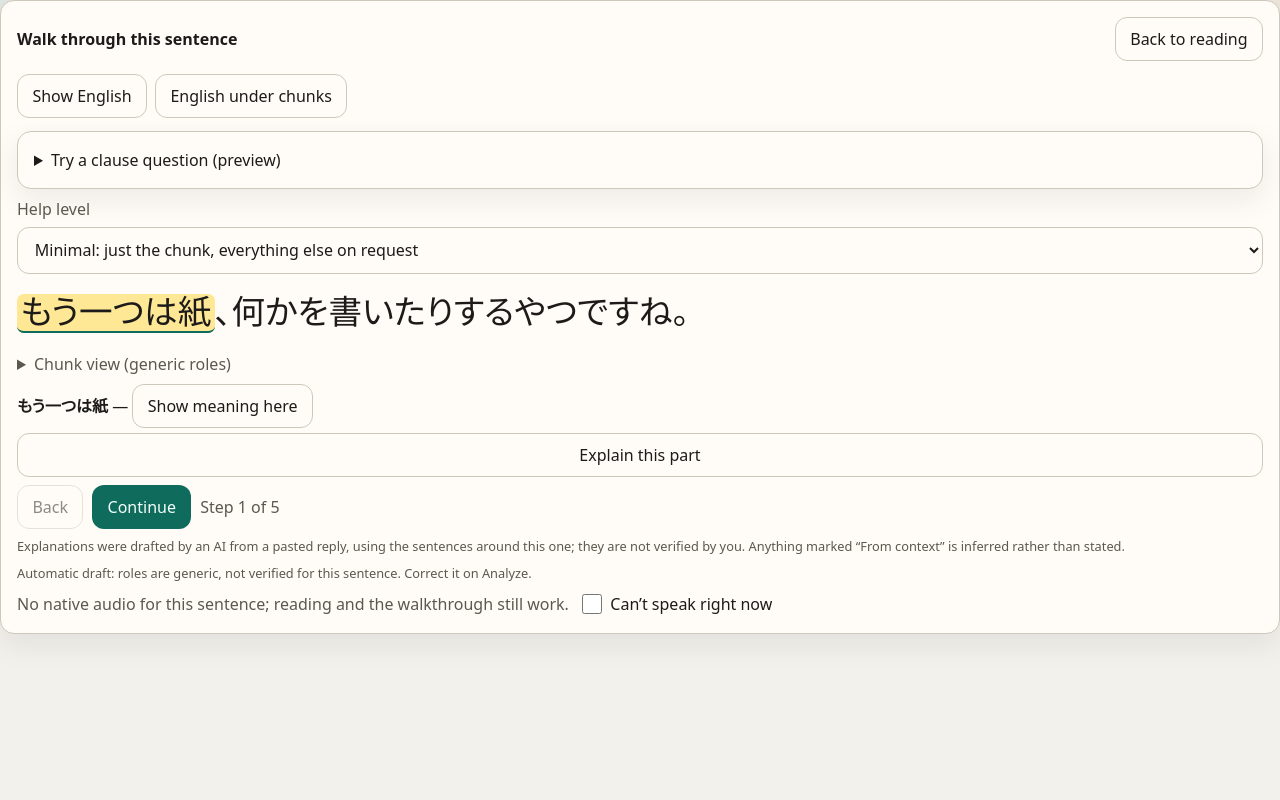
Test case: SentenceWalkthrough › hides the explanation until asked at minimal help
Step 1. Click the button "Explain this part" → [640, 455], box top-left (17, 433), bottom-right (1263, 477)
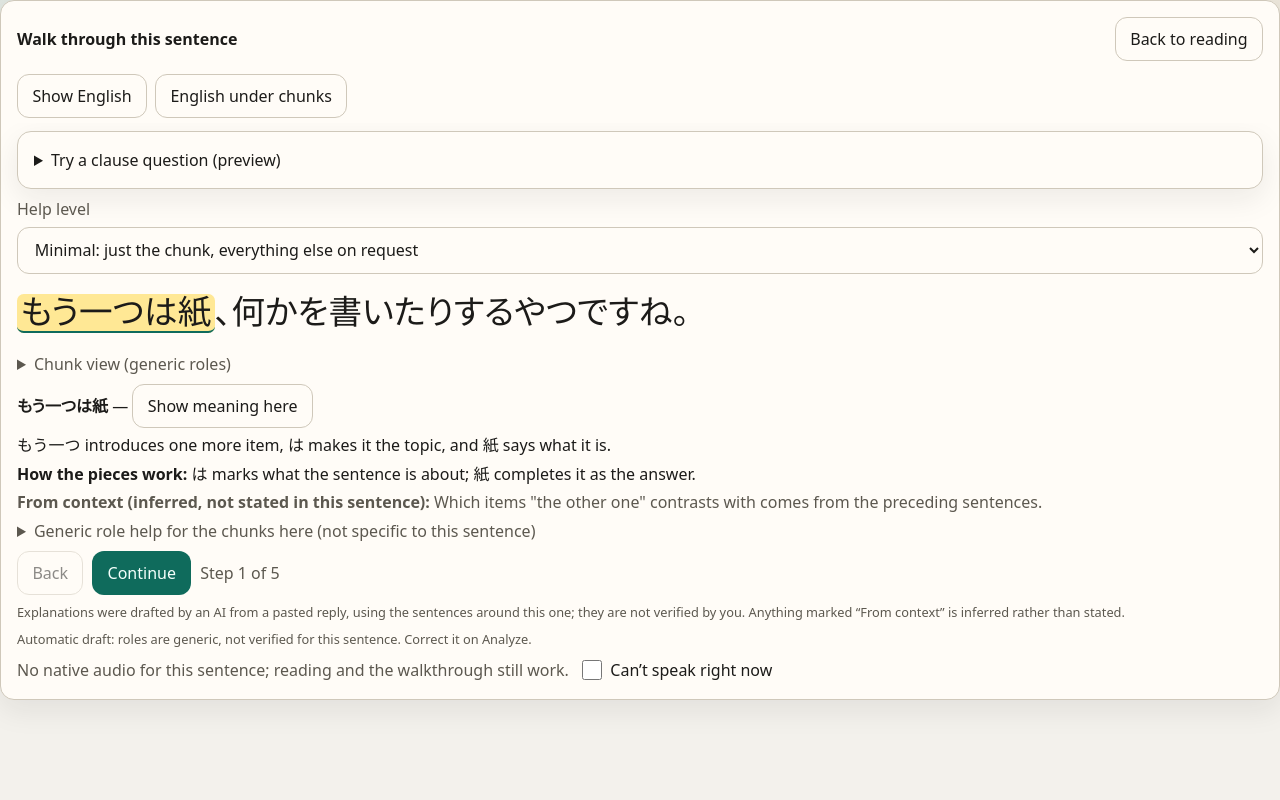
Expected: the element named "Sentence walkthrough" shows "introduces one more item", top-left (17, 434), bottom-right (611, 456)
